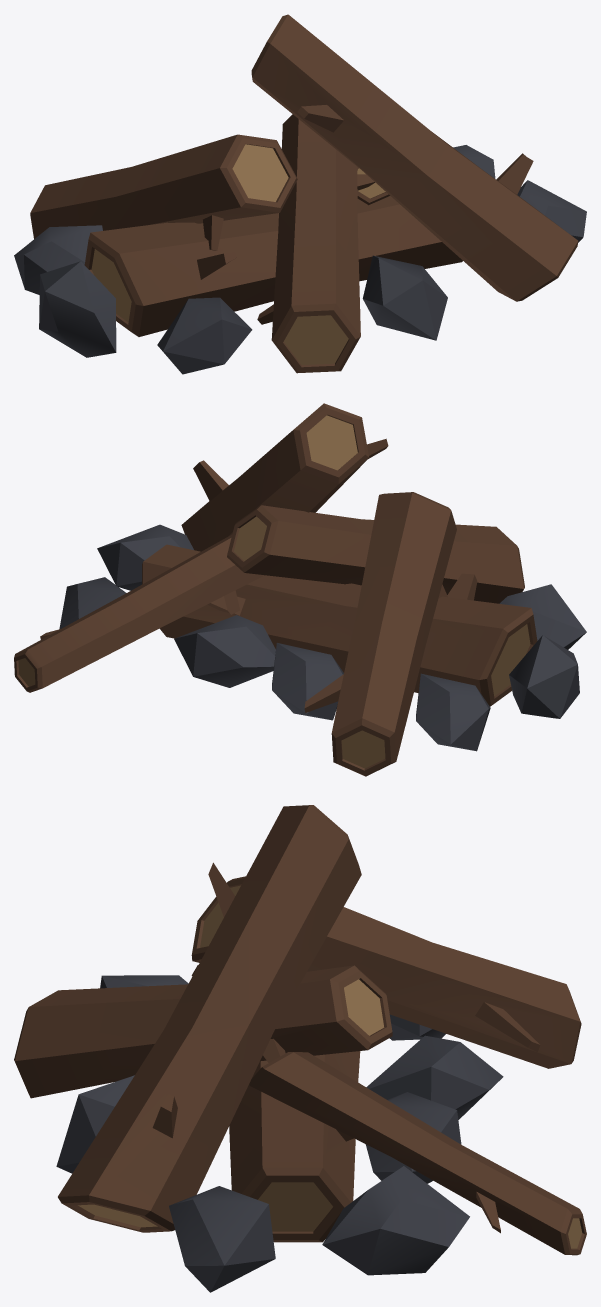
Rendered from Lagerfeuer.fbx.
3 views of the same model, one above another, from view 1: azimuth 30°, elevation 25°; view 2: azimuth 150°, elevation 25°; view 3: azimuth 270°, elevation 25° (orthographic). The views are drawn at different scales.
Parts seen in each view (by area): view 1: Fire Log; view 2: Fire Log; view 3: Fire Log.
Boxes of the visible parts, bbox=[...] form: Fire Log: bbox=[14, 14, 586, 374]; Fire Log: bbox=[14, 403, 586, 776]; Fire Log: bbox=[14, 805, 586, 1292].
Size of the model in its own units: 246 by 127 by 188.
